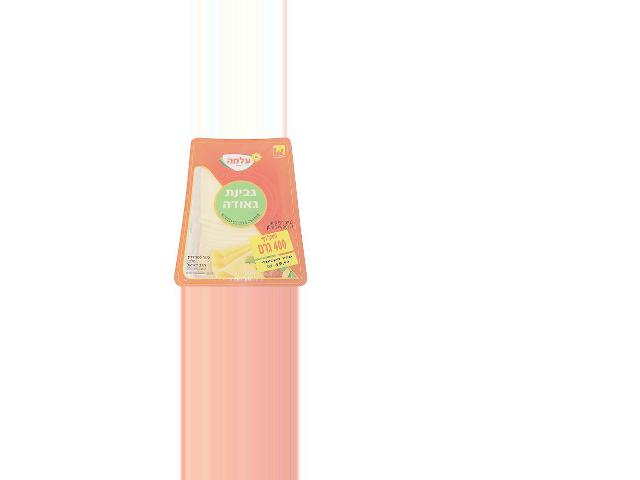cheese: (174, 138, 307, 287)
